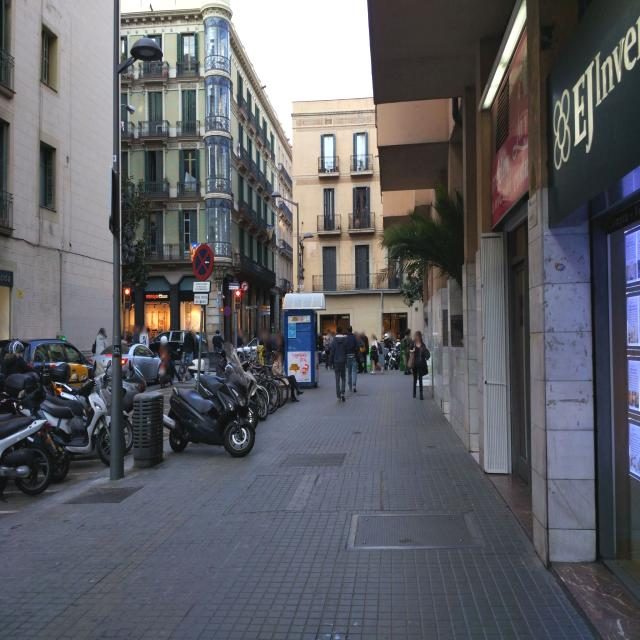bike: (162, 348, 258, 458), (34, 367, 134, 467), (0, 373, 49, 498), (215, 344, 268, 424), (244, 353, 282, 412)
car: (148, 329, 196, 380), (125, 342, 163, 387)
